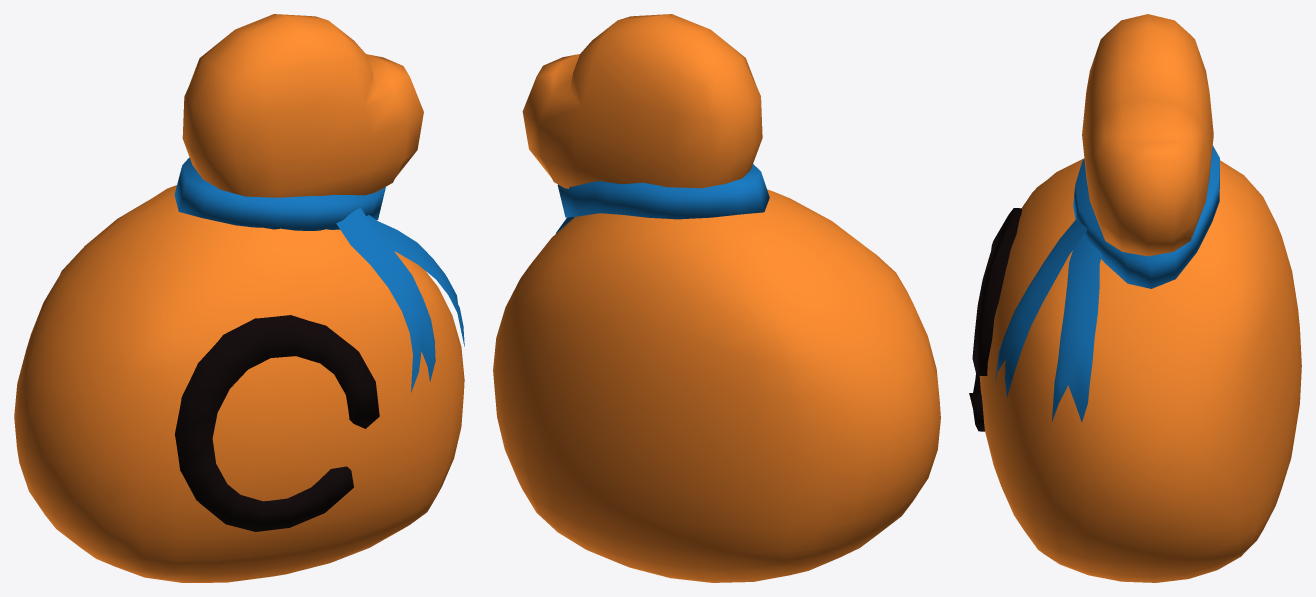
File: MoneyBag.fbx
3 renders of one model, left to right at view 1: azimuth 30°, elevation 25°; view 2: azimuth 150°, elevation 25°; view 3: azimuth 270°, elevation 25°, orthographic.
Parts seen in each view (by area): view 1: Cylinder001; view 2: Cylinder001; view 3: Cylinder001.
Boxes of the visible parts, x1,y1,x2,y2 form: Cylinder001: (14,14,464,582); Cylinder001: (493,14,940,582); Cylinder001: (969,14,1301,582).
Bounding box in the file's own units: 11.69 × 8.04 × 14.47.
